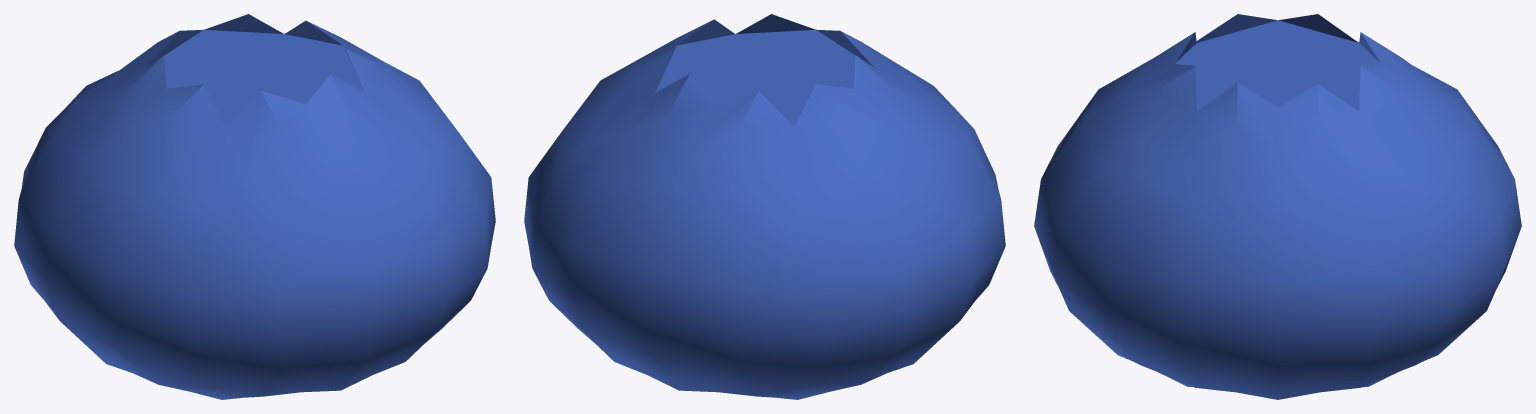
File: Arandano.fbx
The picture shows the model from 3 angles, left to right: view 1: azimuth 30°, elevation 25°; view 2: azimuth 150°, elevation 25°; view 3: azimuth 270°, elevation 25°; orthographic projection.
Parts seen in each view (by area): view 1: Cube; view 2: Cube; view 3: Cube.
Boxes of the visible parts, box(x1,y1,x2,y2) form: Cube: box(14, 14, 495, 399); Cube: box(524, 14, 1005, 399); Cube: box(1034, 14, 1521, 399).
Size of the model in its own units: 139 by 94.96 by 139.
